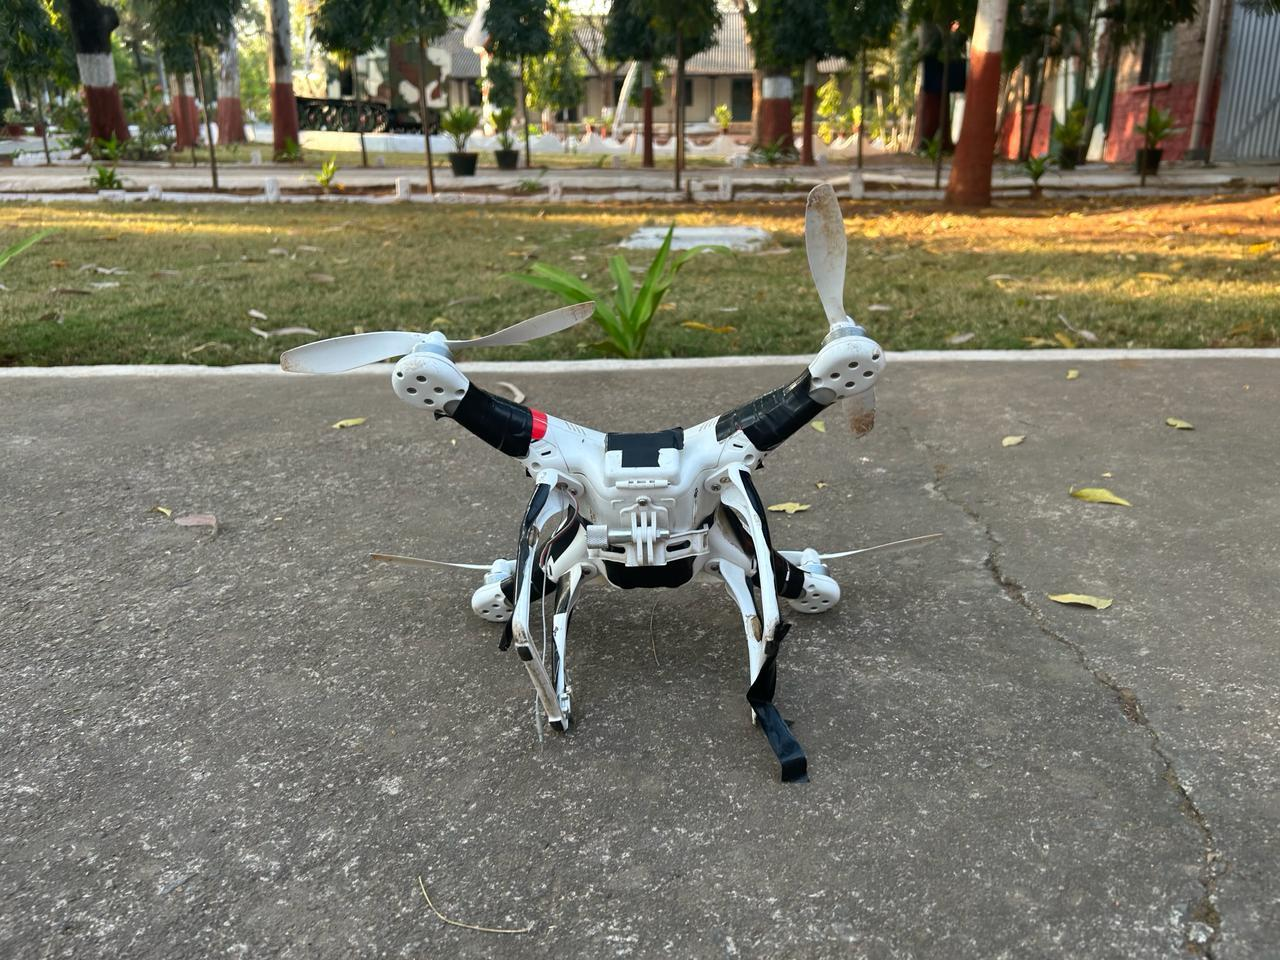drone: (166, 203, 1153, 809)
